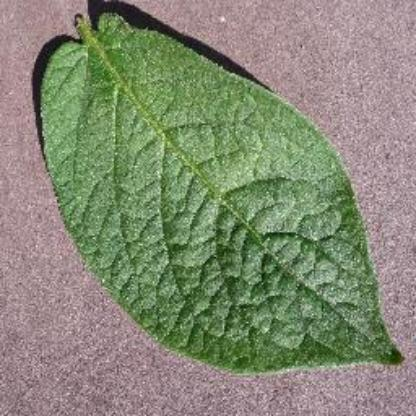Healthy-plant: (23, 11, 411, 379)
